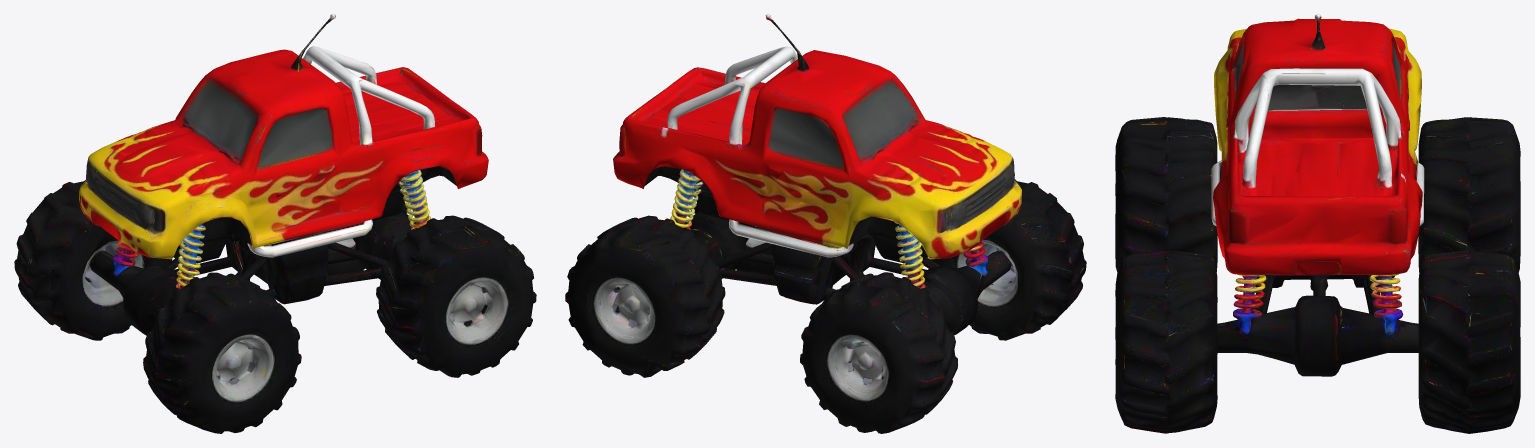
The picture shows the model from 3 angles, left to right: view 1: azimuth 30°, elevation 25°; view 2: azimuth 150°, elevation 25°; view 3: azimuth 270°, elevation 25°; orthographic projection. The views are drawn at different scales.
Visible parts, largest first — view 1: Mesh_0; view 2: Mesh_0; view 3: Mesh_0.
Boxes of the visible parts, x1,y1,x2,y2 form: Mesh_0: (14,14,536,433); Mesh_0: (565,14,1086,433); Mesh_0: (1115,14,1520,433).
Size of the model in its own units: 1.91 by 1.6 by 1.56.
Materials: 1 (1 with a texture image).
